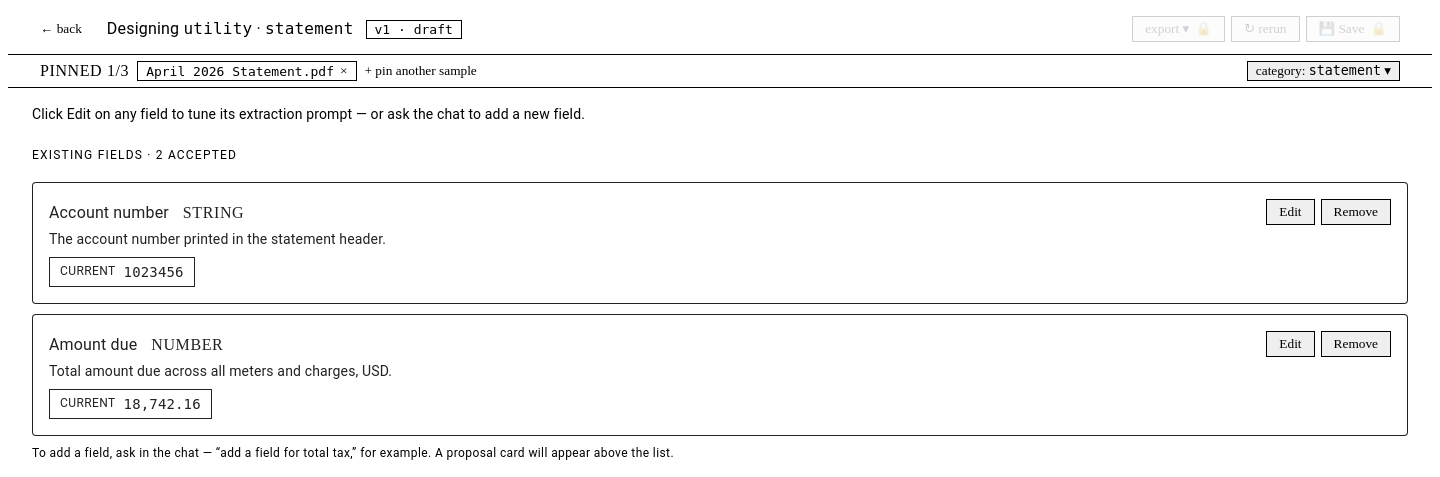
SchemaView (UI-01 Phase 1) › unsaved indicator surfaces when overlay carries diff affecting the focused category
Expected: the text "Existing fields · 2 accepted" is shown, [32,148,237,162]
Step 1. Click the button with test id "schema-remove-field-account_number" → (1356, 212), box [1321,199,1391,225]
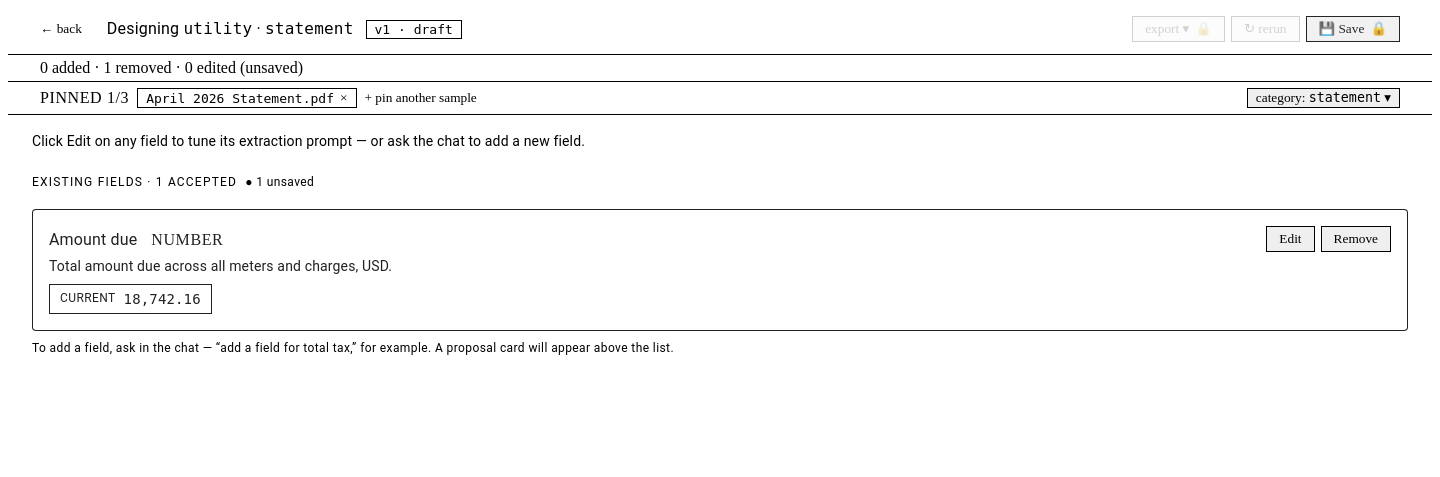
Result: the text with test id "schema-fields-unsaved" reads "● 1 unsaved" at [245,173,314,193]
